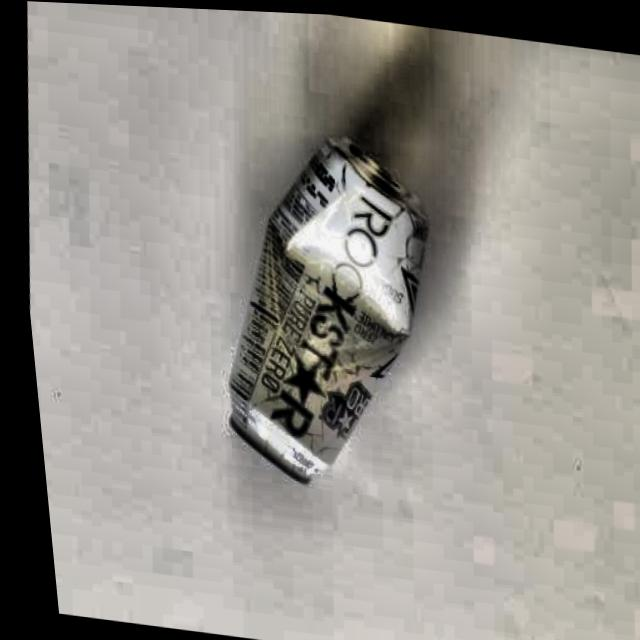Cans: (165, 105, 468, 517)
